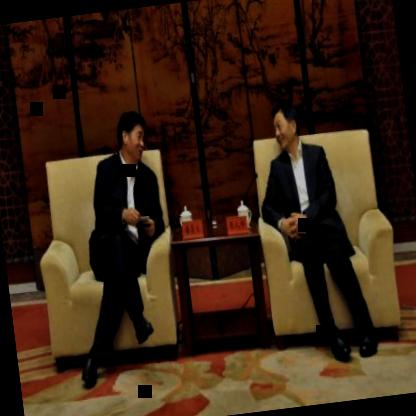head: (113, 107, 151, 166), (268, 97, 301, 151)
